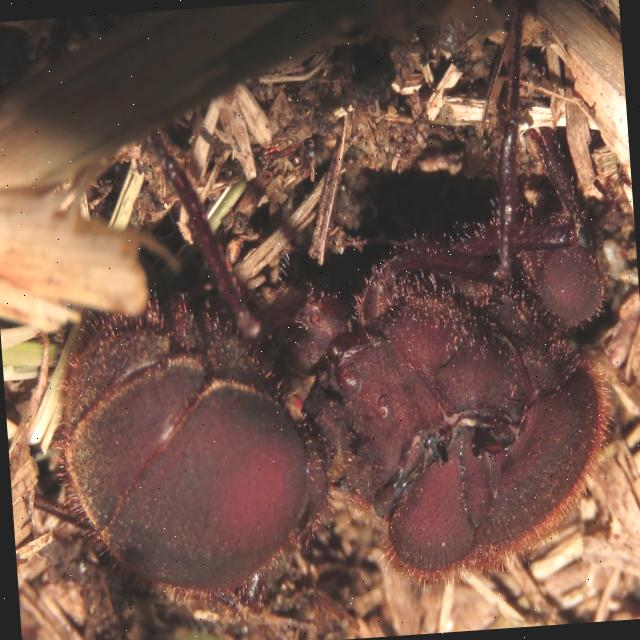Alive-Female-Dealate: (19, 0, 634, 637)
